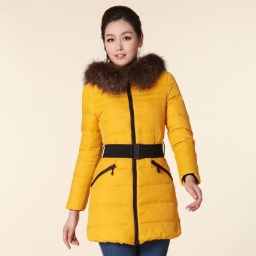face: (99, 5, 144, 65)
